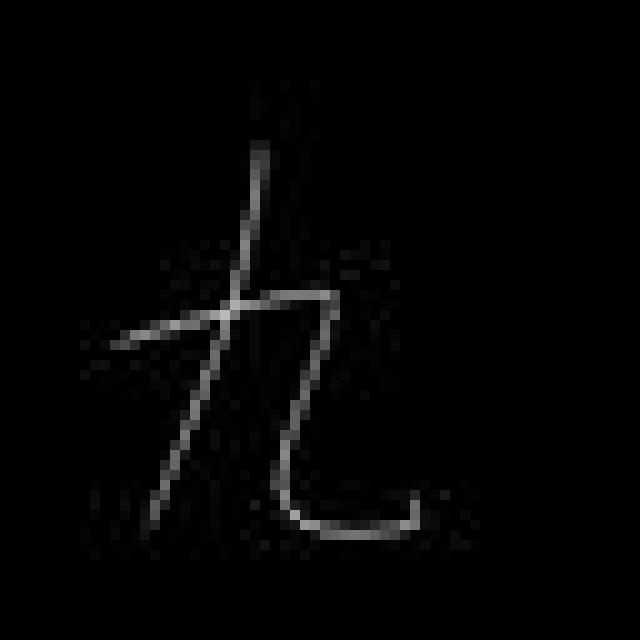9 -nine-: (104, 141, 425, 549)
